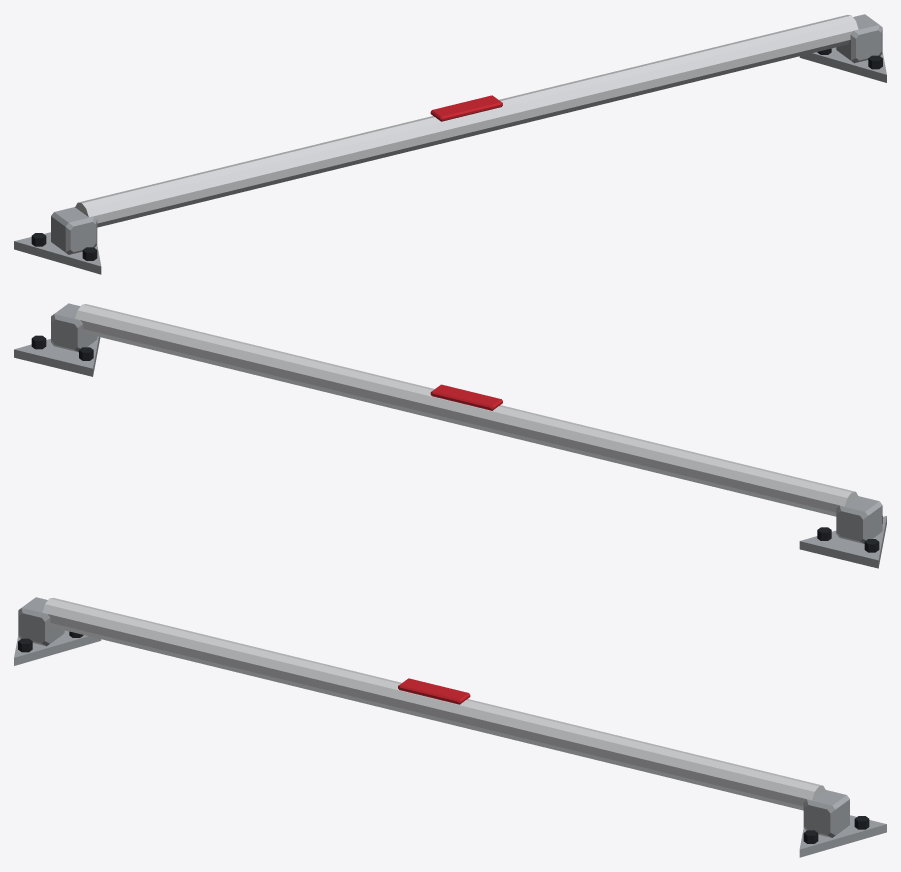
The model's file is strut_brace.glb.
3 renders of one model, top to bottom at view 1: azimuth 30°, elevation 25°; view 2: azimuth 150°, elevation 25°; view 3: azimuth 330°, elevation 25°, orthographic.
Visible parts, largest first — view 1: model; view 2: model; view 3: model.
Part boxes in pixels (x1,y1,x2,y2): model: (14,14,886,274); model: (14,303,886,568); model: (14,597,886,857).
Bounding box in the file's own units: 1.09 × 0.0639 × 0.1049.
3 materials, 1 textured.
